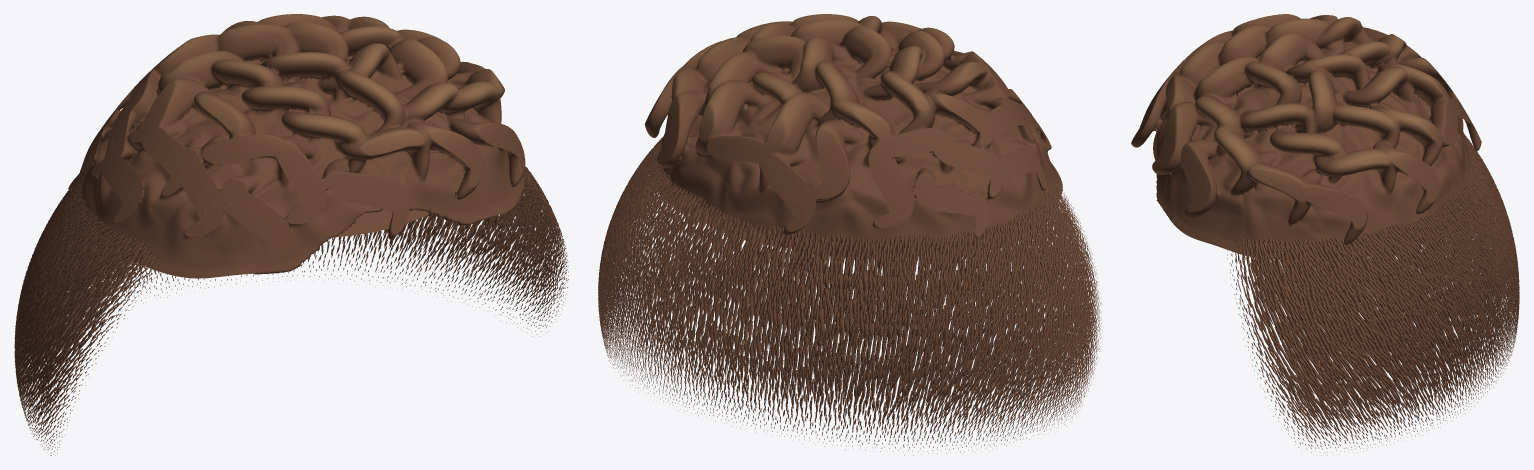
The model's file is Masculine-curly-top-beanie254-hair-ombre.glb.
3 renders of one model, left to right at view 1: azimuth 30°, elevation 25°; view 2: azimuth 150°, elevation 25°; view 3: azimuth 270°, elevation 25°, orthographic. The views are drawn at different scales.
Visible parts, largest first — view 1: 226 hair / Hair252 / sculpted curl groups, 226 hair / Hair254 / rooted short groom; view 2: 226 hair / Hair254 / rooted short groom, 226 hair / Hair252 / sculpted curl groups; view 3: 226 hair / Hair252 / sculpted curl groups, 226 hair / Hair254 / rooted short groom.
Boxes of the visible parts, bbox=[...] form: 226 hair / Hair252 / sculpted curl groups: bbox=[68, 14, 525, 278]; 226 hair / Hair254 / rooted short groom: bbox=[14, 166, 568, 455]; 226 hair / Hair254 / rooted short groom: bbox=[598, 136, 1102, 455]; 226 hair / Hair252 / sculpted curl groups: bbox=[644, 14, 1062, 258]; 226 hair / Hair252 / sculpted curl groups: bbox=[1131, 14, 1481, 258]; 226 hair / Hair254 / rooted short groom: bbox=[1153, 132, 1519, 455].
Size of the model in its own units: 0.9716 by 0.6616 by 0.7434.
